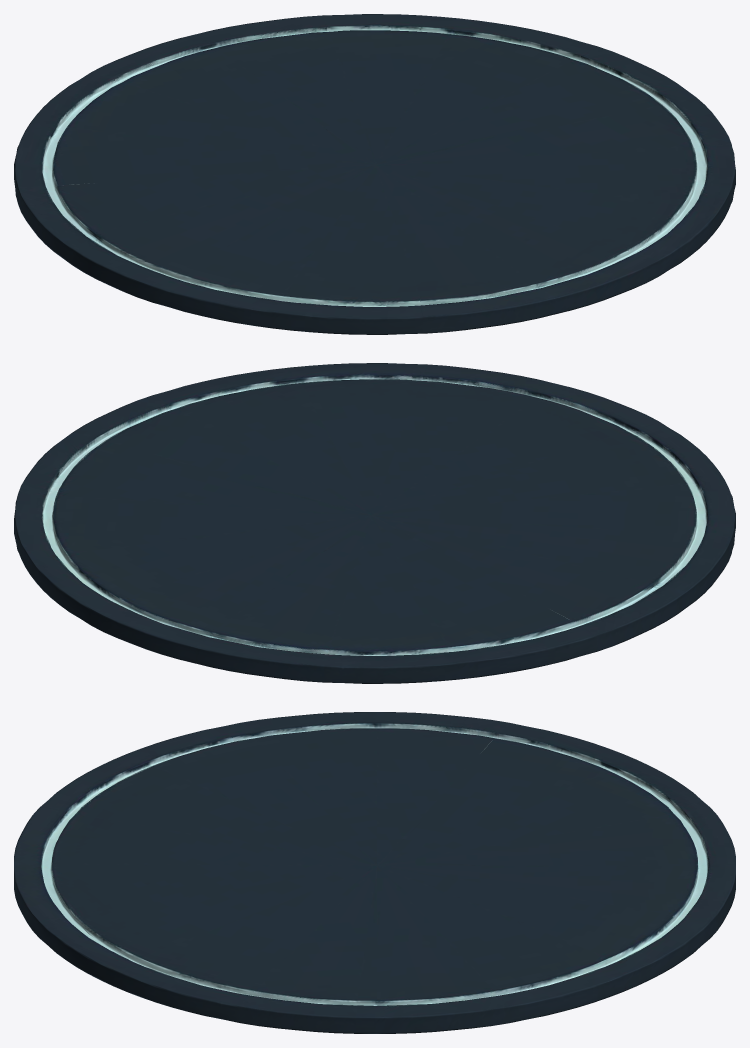
File: original_glb.glb
3 views of the same model, one above another, from view 1: azimuth 30°, elevation 25°; view 2: azimuth 150°, elevation 25°; view 3: azimuth 270°, elevation 25° (orthographic).
Visible parts, largest first — view 1: glowing ring pad; view 2: glowing ring pad; view 3: glowing ring pad.
Part boxes in pixels (x1=…): glowing ring pad: x1=14, y1=14, x2=735, y2=334; glowing ring pad: x1=14, y1=363, x2=735, y2=683; glowing ring pad: x1=14, y1=712, x2=735, y2=1033.
Bounding box in the file's own units: 0.998 × 0.0254 × 0.998.
1 material, 1 textured.
